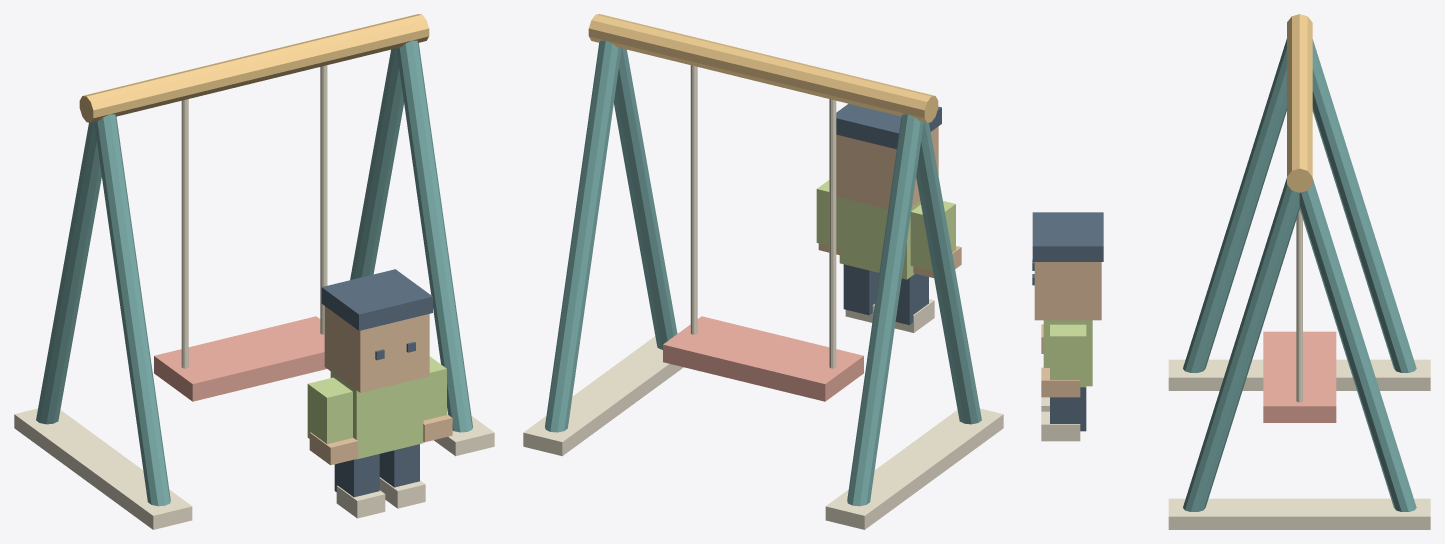
The model's file is swing.glb.
3 renders of one model, left to right at view 1: azimuth 30°, elevation 25°; view 2: azimuth 150°, elevation 25°; view 3: azimuth 270°, elevation 25°, orthographic. The views are drawn at different scales.
Visible parts, largest first — view 1: Top_bar, A_frame.001, A_frame.003, Swing_seat, Footing, A_frame, Preview_head, A_frame.002, Preview_body, Preview_hair, Preview_LeftArm, Swing_chain (+9 smaller); view 2: Top_bar, Swing_seat, A_frame.002, A_frame, Footing, A_frame.001, A_frame.003, Footing.001, Preview_head, Preview_body, Preview_hair, Swing_chain (+6 smaller); view 3: Footing.001, A_frame.002, A_frame.003, A_frame, A_frame.001, Swing_seat, Top_bar, Footing, Preview_head, Preview_hair, Preview_RightArm, Swing_chain.001 (+4 smaller).
Boxes of the visible parts, <box> form: Top_bar: <box>79,14,429,122</box>; A_frame.001: <box>94,114,170,506</box>; A_frame.003: <box>396,40,472,432</box>; Swing_seat: <box>154,316,326,401</box>; Footing: <box>14,408,192,529</box>; A_frame: <box>36,122,101,424</box>; Preview_head: <box>324,306,429,392</box>; A_frame.002: <box>350,48,403,279</box>; Preview_body: <box>330,371,423,459</box>; Preview_hair: <box>321,269,432,330</box>; Preview_LeftArm: <box>307,377,352,443</box>; Swing_chain: <box>181,99,188,368</box>; Top_bar: <box>588,14,938,122</box>; Swing_seat: <box>663,316,863,401</box>; A_frame.002: <box>545,40,621,432</box>; A_frame: <box>847,114,923,506</box>; Footing: <box>825,408,1003,529</box>; A_frame.001: <box>916,122,981,424</box>; A_frame.003: <box>614,48,677,349</box>; Footing.001: <box>523,336,683,456</box>; Preview_head: <box>836,126,938,209</box>; Preview_body: <box>839,198,920,279</box>; Preview_hair: <box>836,103,941,149</box>; Swing_chain: <box>829,99,836,368</box>; Footing.001: <box>1168,498,1430,529</box>; A_frame.002: <box>1299,178,1416,511</box>; A_frame.003: <box>1183,178,1299,511</box>; A_frame: <box>1312,39,1416,372</box>; A_frame.001: <box>1183,39,1286,372</box>; Swing_seat: <box>1263,331,1336,422</box>; Top_bar: <box>1287,14,1312,192</box>; Footing: <box>1168,359,1430,390</box>; Preview_head: <box>1034,262,1101,320</box>; Preview_hair: <box>1032,212,1103,261</box>; Preview_RightArm: <box>1050,324,1086,387</box>; Swing_chain.001: <box>1296,209,1302,402</box>.
Bounding box in the file's own units: 3.05 × 3.28 × 3.27.
